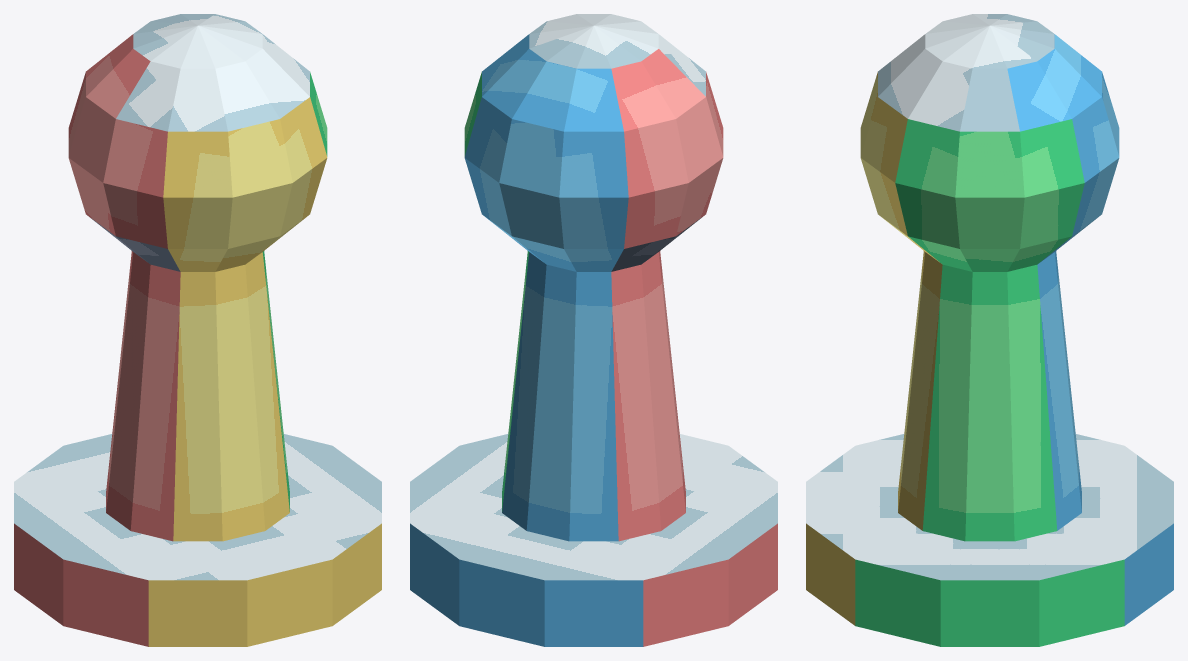
Rendered from placeholder1.obj.
The picture shows the model from 3 angles, left to right: view 1: azimuth 30°, elevation 25°; view 2: azimuth 150°, elevation 25°; view 3: azimuth 270°, elevation 25°; orthographic projection.
Parts seen in each view (by area): view 1: cylinder; view 2: cylinder; view 3: cylinder.
Part boxes in pixels (<box>): cylinder: <box>14,14,381,646</box>; cylinder: <box>410,14,777,646</box>; cylinder: <box>806,14,1173,646</box>.
Bounding box in the file's own units: 0.625 × 1.02 × 0.625.
